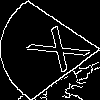X: (25, 25, 100, 80)
